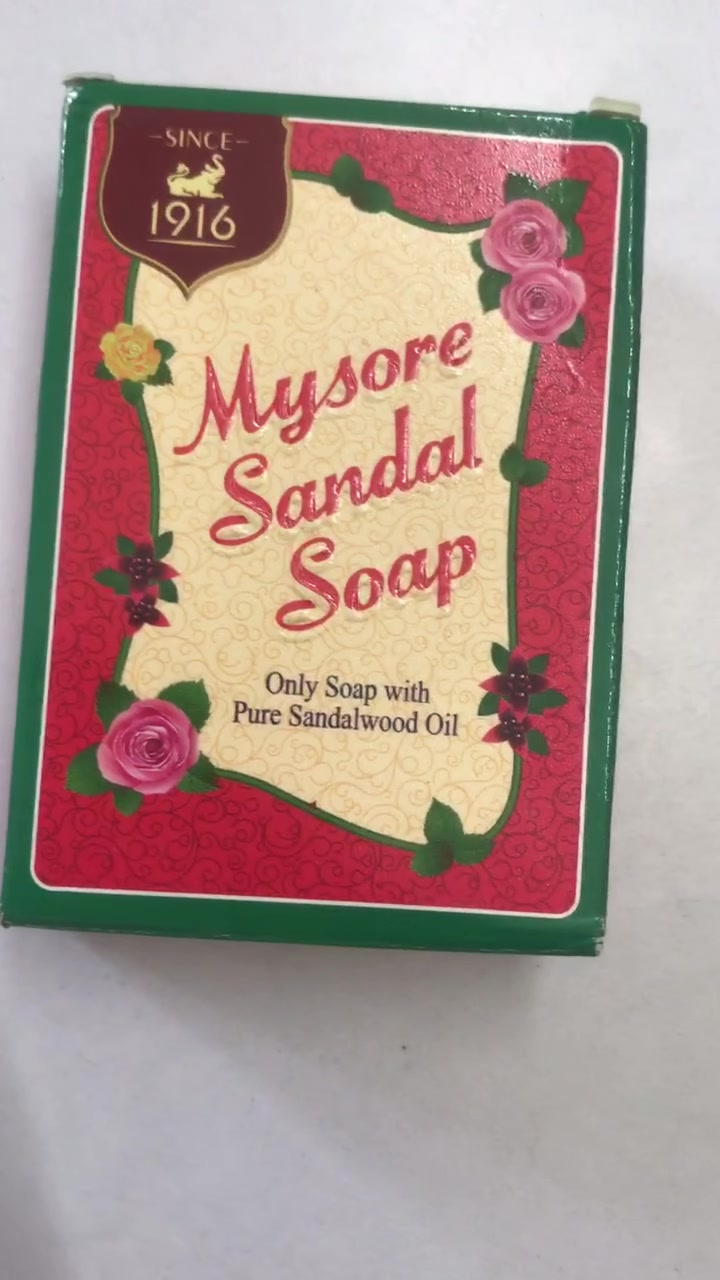mysore sandal soap: (51, 78, 617, 960)
